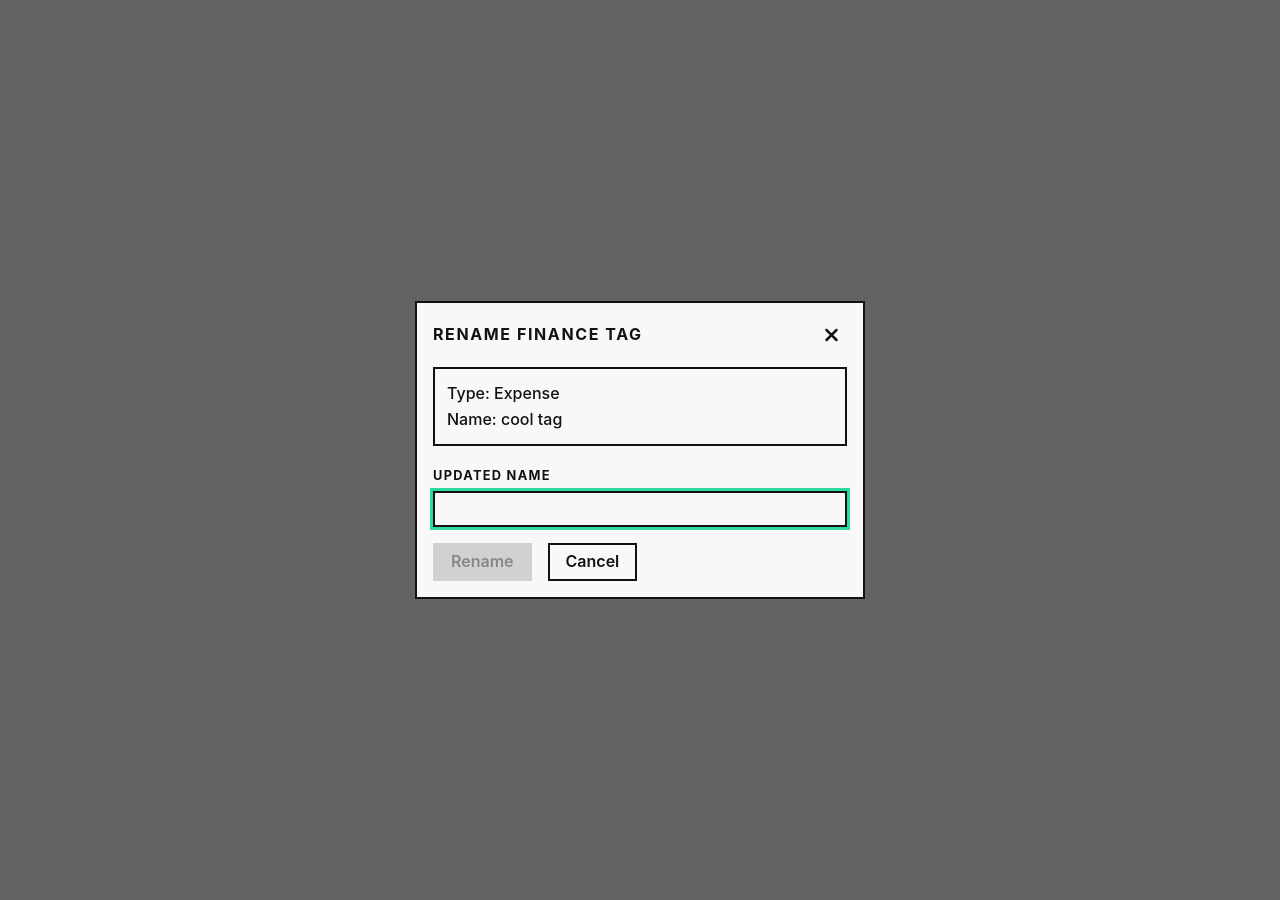
Test: enables the submit button when input is populated
This screenshot has width=1280, height=900.
Type "A" into the field labelled "Updated name". click: [640, 509]
box: [433, 491, 847, 527]
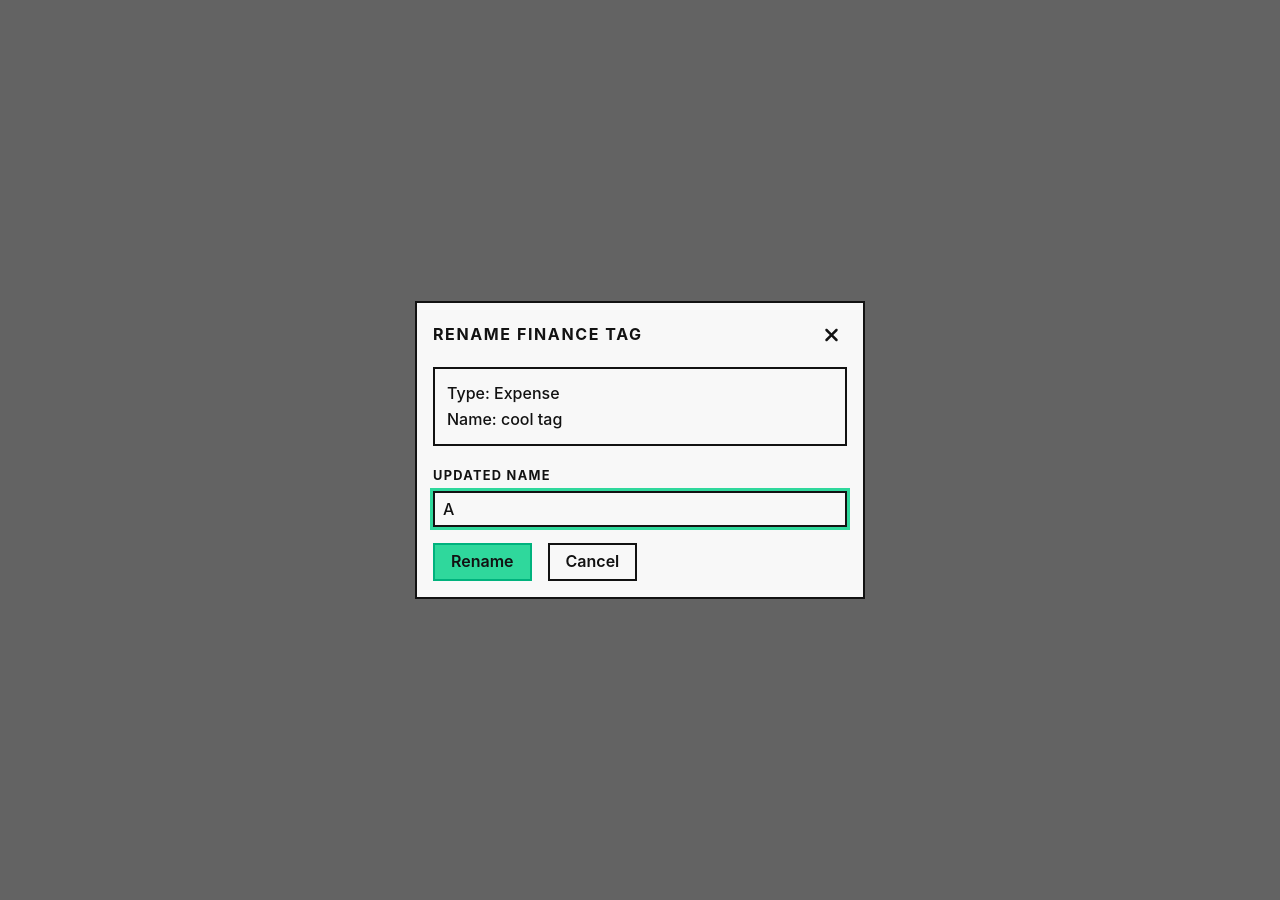
Expected: the button "Rename" is enabled, [433, 543, 532, 581]
